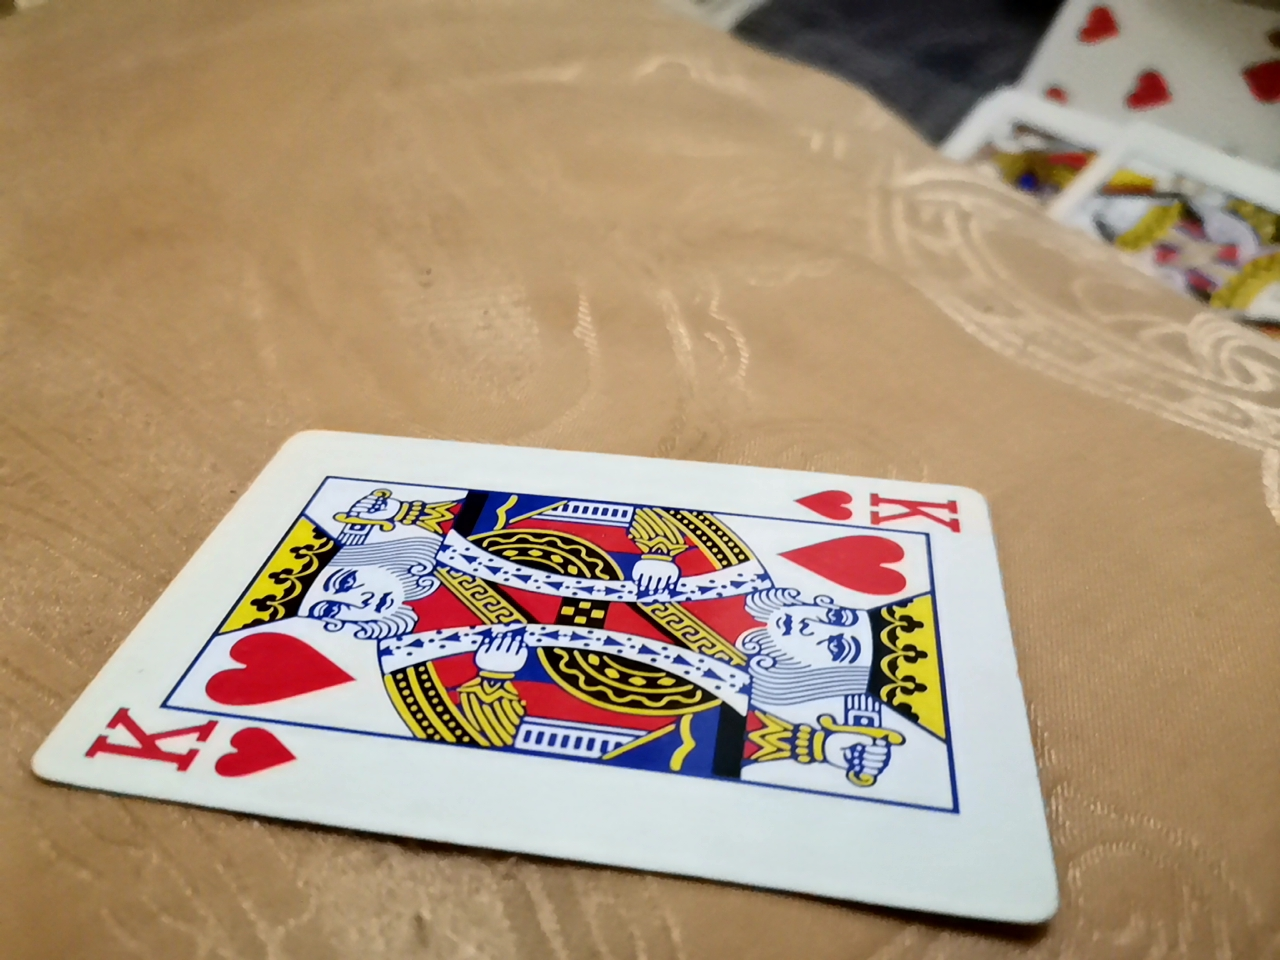hx k: (40, 399, 1064, 901)
